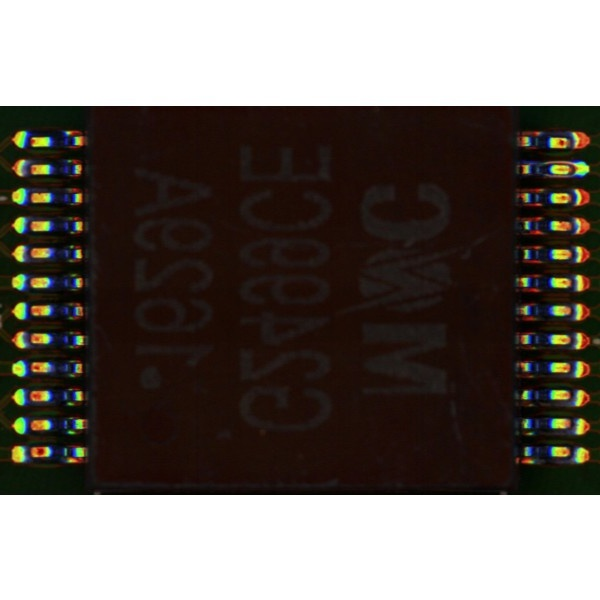Bad_qiaojiao: (540, 160, 575, 165), (543, 174, 575, 178)
